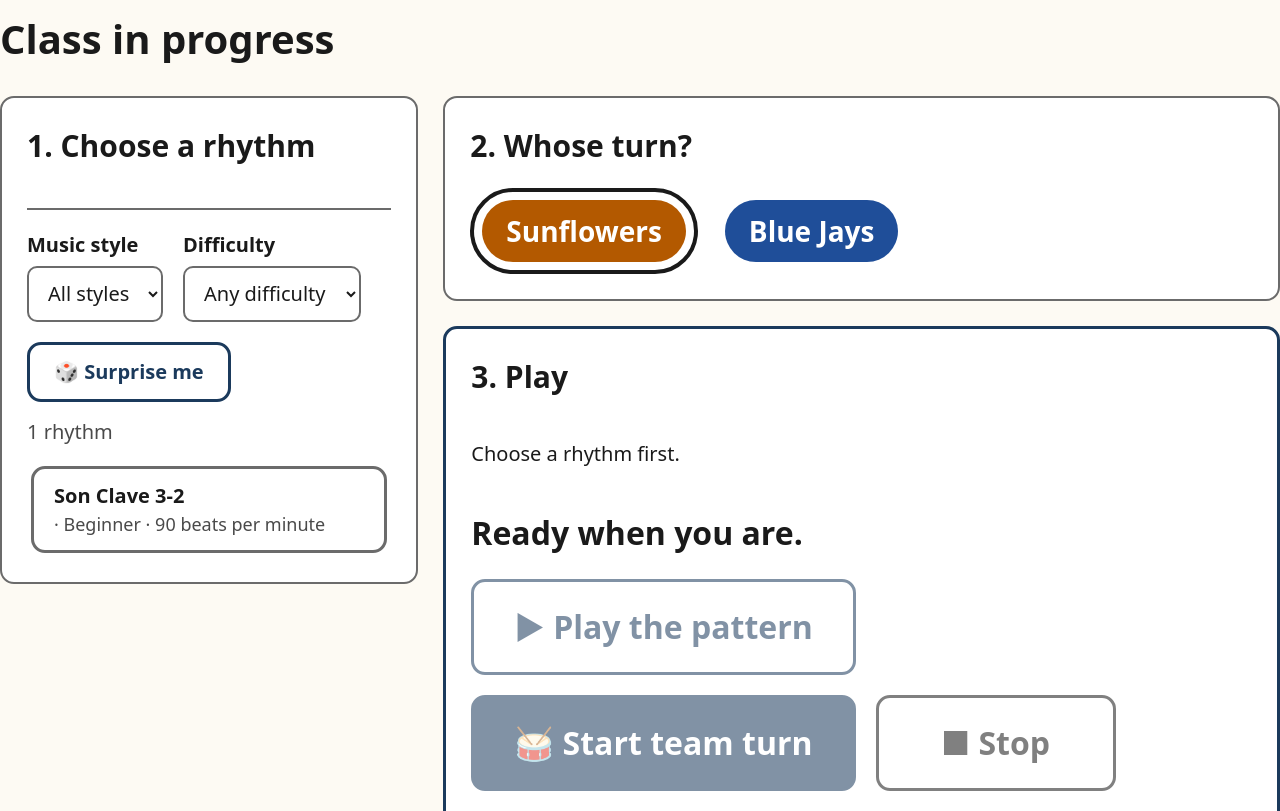
Test case: library loops are marked as Qi Rhythm Originals; the org’s own loop wins
The width and height of the screenshot is (1280, 811).
Later steps or results of the test are not shown.
Click the button "Son Clave 3-2 · Beginner · 90 beats per minute" at (209, 509), box [31,466,387,553]
(page scrolled)
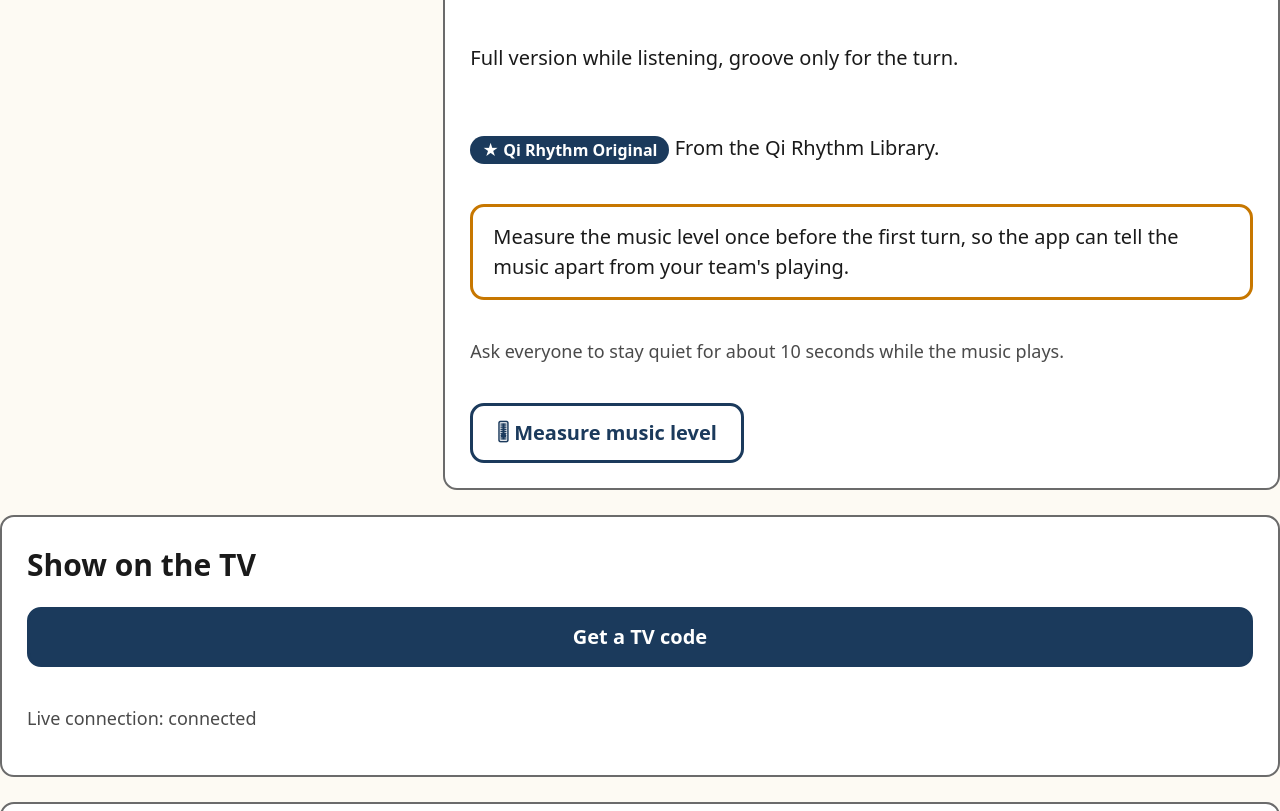
Check: the text "★ Qi Rhythm Original" is shown, box [470,136,669,164]
Check: the text "★ Qi Rhythm Original From the Qi Rhythm Library." is shown, box [470,134,939,164]
